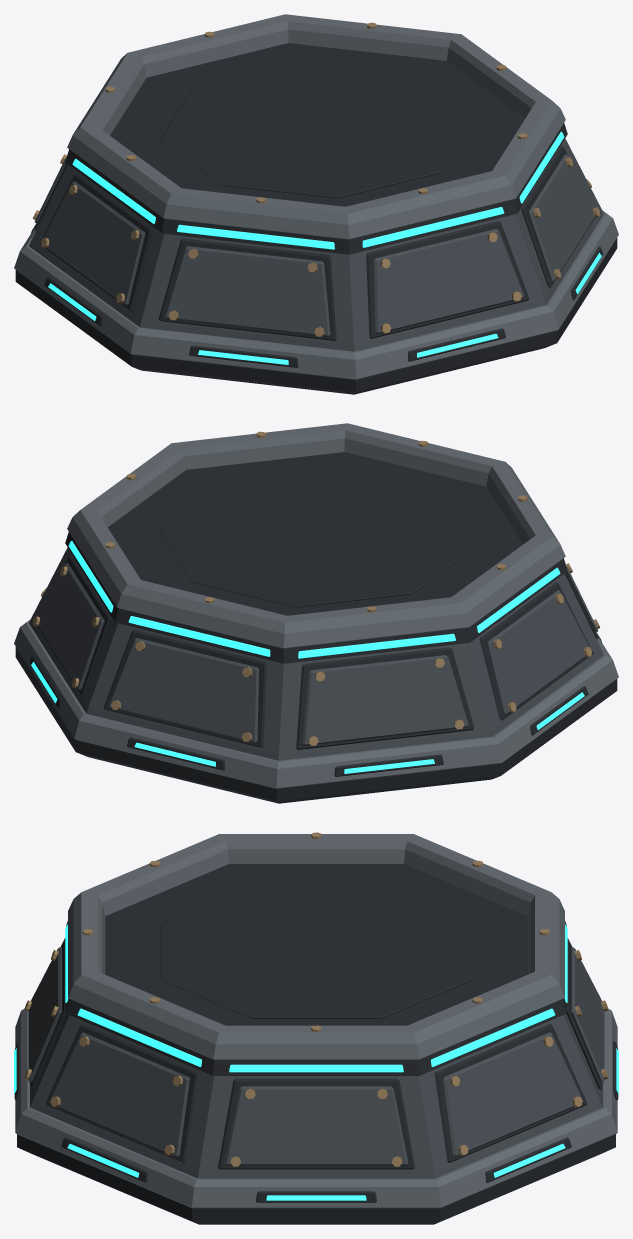
The model's file is wsc-prop-053-robot-dock.glb.
3 renders of one model, top to bottom at view 1: azimuth 30°, elevation 25°; view 2: azimuth 150°, elevation 25°; view 3: azimuth 270°, elevation 25°, orthographic. The views are drawn at different scales.
Parts seen in each view (by area): view 1: Gunmetal | worn arris, Graphite | powder coat, Carbon | gasket, Carbon | landing pad, Cyan | inset diffuser, Brass | fasteners; view 2: Gunmetal | worn arris, Graphite | powder coat, Carbon | gasket, Carbon | landing pad, Cyan | inset diffuser, Brass | fasteners; view 3: Gunmetal | worn arris, Graphite | powder coat, Carbon | gasket, Carbon | landing pad, Cyan | inset diffuser, Brass | fasteners.
Part boxes in pixels (<box>): Gunmetal | worn arris: <box>14,14,618,379</box>; Graphite | powder coat: <box>29,138,603,351</box>; Carbon | gasket: <box>15,43,617,394</box>; Carbon | landing pad: <box>159,65,472,198</box>; Cyan | inset diffuser: <box>31,132,601,364</box>; Brass | fasteners: <box>33,22,600,336</box>; Gunmetal | worn arris: <box>14,423,618,788</box>; Graphite | powder coat: <box>29,547,603,760</box>; Carbon | gasket: <box>15,452,617,803</box>; Carbon | landing pad: <box>160,474,473,607</box>; Cyan | inset diffuser: <box>31,541,601,773</box>; Brass | fasteners: <box>32,431,599,745</box>; Gunmetal | worn arris: <box>15,834,617,1208</box>; Graphite | powder coat: <box>28,938,604,1178</box>; Carbon | gasket: <box>14,864,618,1224</box>; Carbon | landing pad: <box>160,886,472,1018</box>; Cyan | inset diffuser: <box>14,924,618,1200</box>; Brass | fasteners: <box>24,832,608,1166</box>.
Size of the model in its own units: 1.99 by 0.628 by 1.99.
